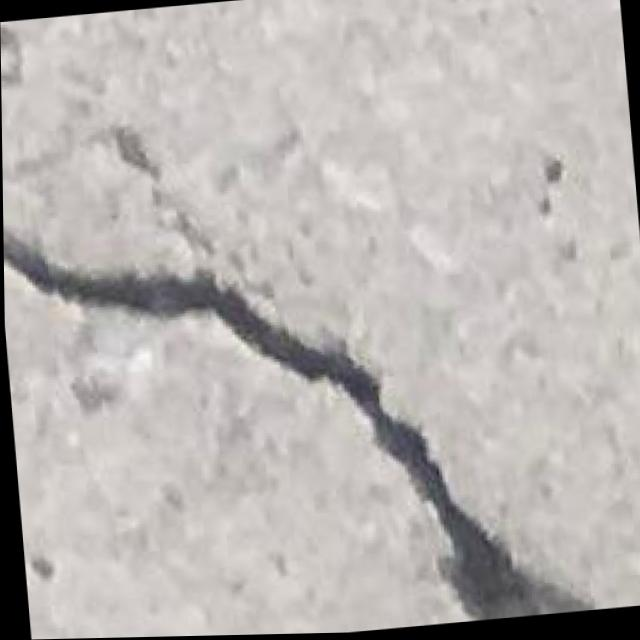Crack: (2, 161, 570, 640)
